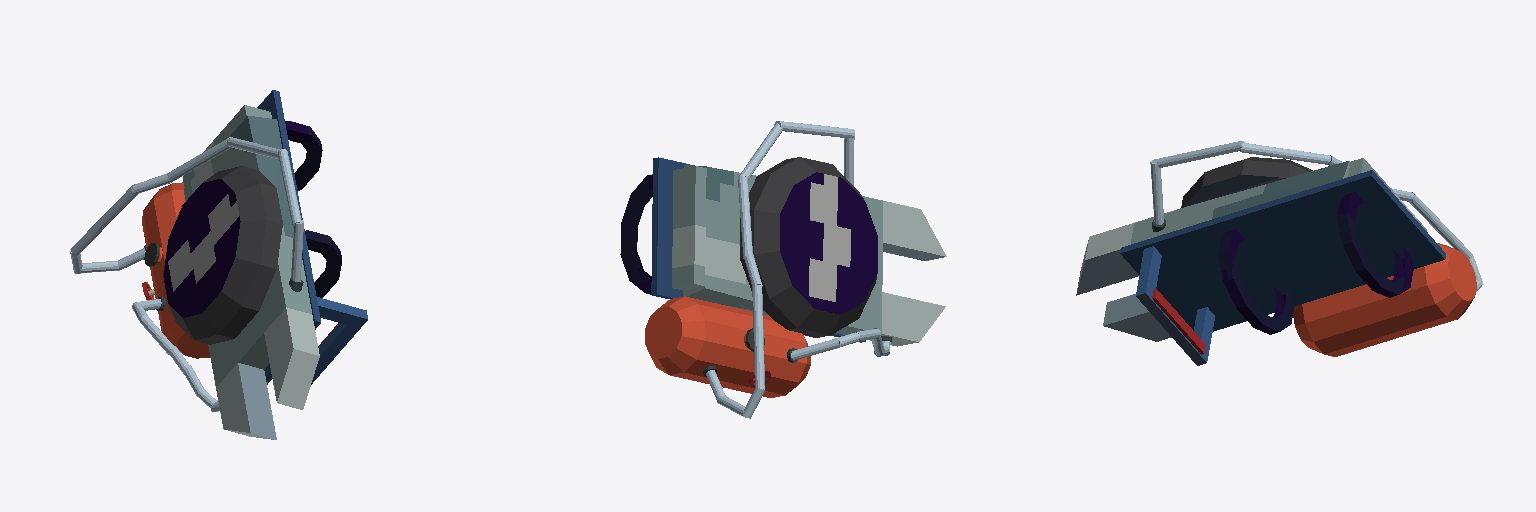
The picture shows the model from 3 angles: view 1: azimuth 30°, elevation 25°; view 2: azimuth 150°, elevation 25°; view 3: azimuth 270°, elevation 25°; orthographic projection.
Parts seen in each view (by area): view 1: Indicator, PincerL, Front, Middle, Tank, PincerR, Pipe, BasePlate, Armband1, Armband2, Handlebar3, Pipe4 (+6 smaller); view 2: Indicator, Tank, Middle, Tray, BasePlate, PincerL, PincerR, Armband1, Front, Pipe, Pipe4, Pipe6 (+2 smaller); view 3: BasePlate, Tank, Middle, Indicator, Armband1, Armband2, PincerL, PincerR, Handlebar3, Pipe7, Pipe8, Front (+5 smaller).
Boxes of the visible parts, x1,y1,x2,y2 form: Indicator: [163, 166, 282, 344]; PincerL: [264, 307, 319, 409]; Front: [208, 262, 311, 386]; Middle: [184, 116, 303, 268]; Tank: [142, 182, 209, 358]; PincerR: [216, 363, 276, 439]; Pipe: [118, 248, 219, 411]; BasePlate: [257, 90, 320, 384]; Armband1: [285, 121, 322, 190]; Armband2: [305, 230, 341, 297]; Handlebar3: [311, 307, 367, 384]; Pipe4: [71, 184, 137, 255]; Indicator: [740, 157, 877, 337]; Tank: [645, 296, 810, 397]; Middle: [683, 165, 767, 314]; Tray: [672, 166, 706, 290]; BasePlate: [651, 157, 865, 342]; PincerL: [883, 201, 946, 260]; PincerR: [870, 292, 945, 346]; Armband1: [620, 174, 652, 294]; Front: [836, 196, 883, 334]; Pipe: [706, 328, 890, 399]; Pipe4: [752, 283, 764, 389]; Pipe6: [738, 174, 752, 258]; BasePlate: [1120, 170, 1445, 331]; Tank: [1293, 243, 1476, 356]; Middle: [1179, 161, 1349, 229]; Indicator: [1181, 157, 1312, 207]; Armband1: [1337, 192, 1413, 297]; Armband2: [1218, 229, 1294, 334]; PincerL: [1076, 223, 1138, 295]; PincerR: [1103, 294, 1171, 341]; Handlebar3: [1136, 281, 1208, 365]; Pipe7: [1240, 143, 1330, 164]; Pipe8: [1152, 141, 1244, 167]; Front: [1131, 208, 1182, 243].
Bounding box in the file's own units: 0.7743 × 0.8444 × 1.31.
1 materials, 1 textured.